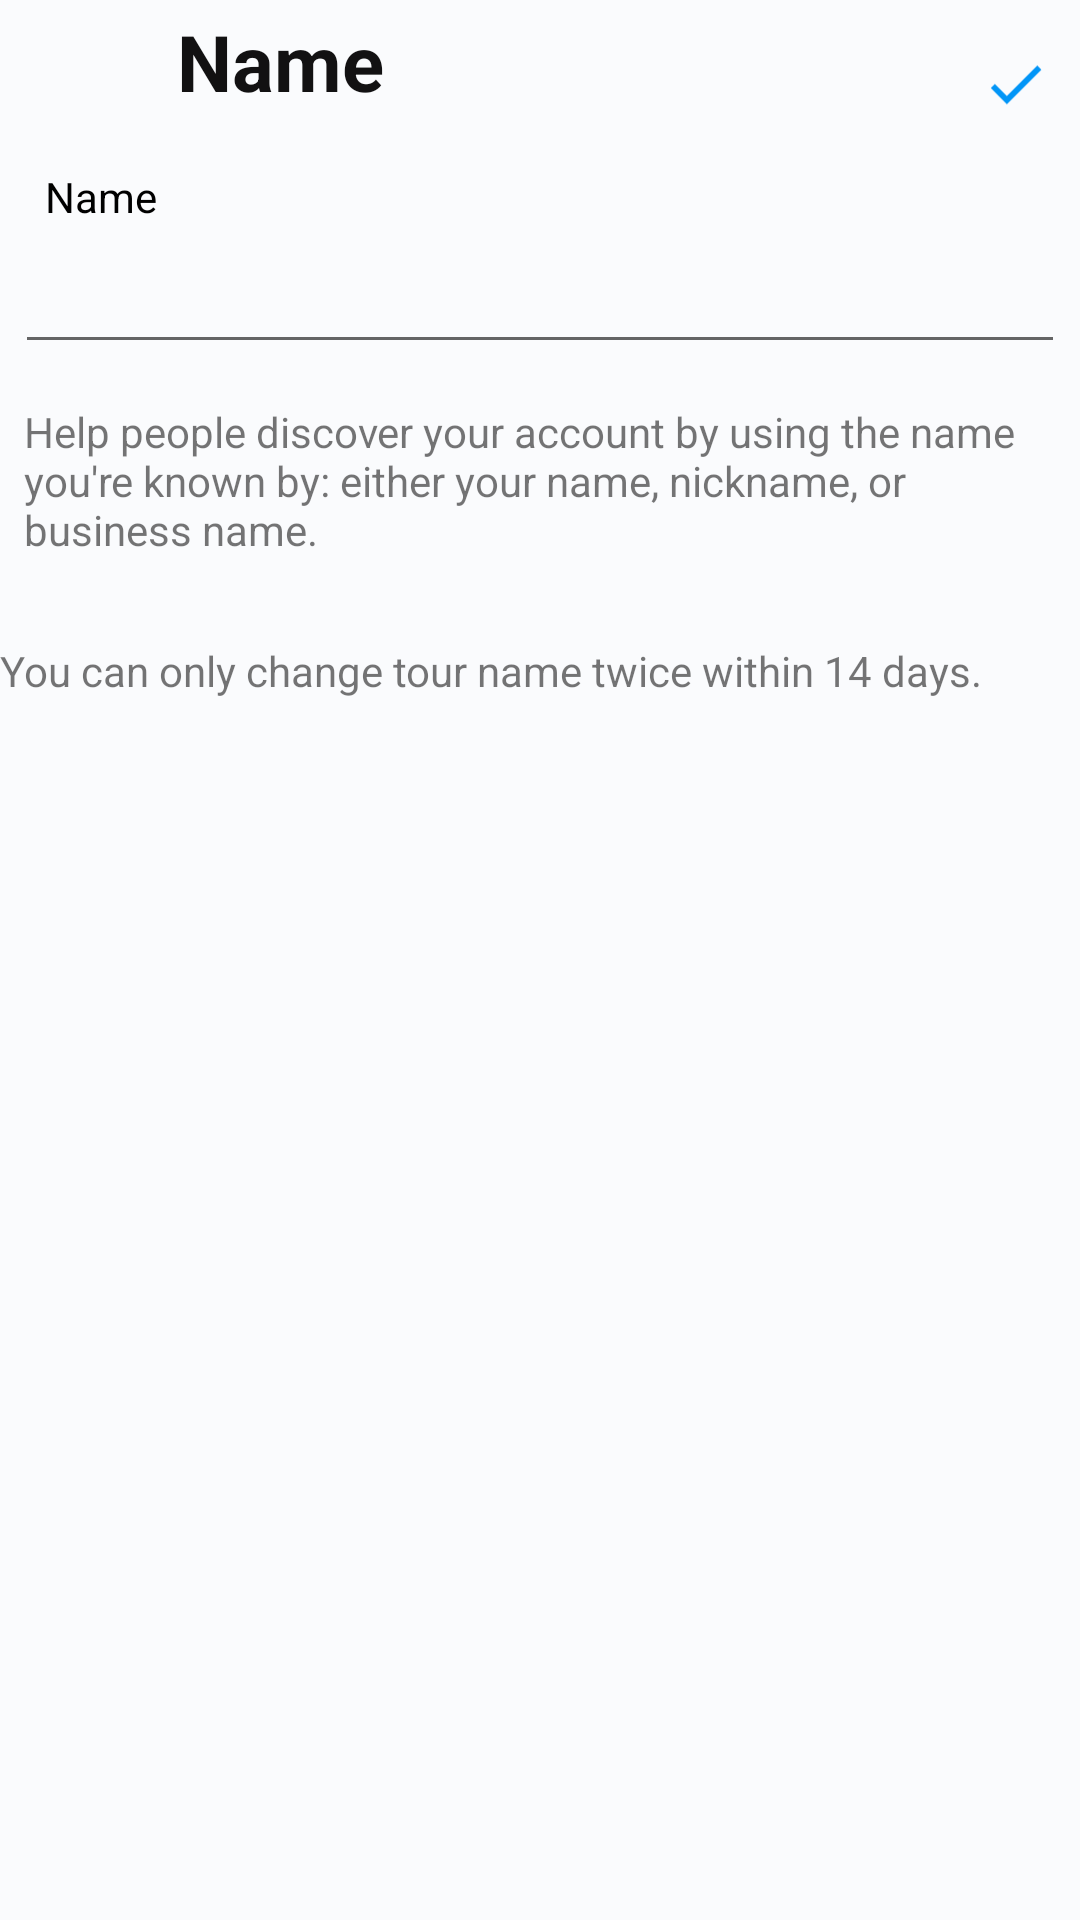

Icons on this 1080*1920 Android screen, each with the point to tap as (x,y):
check: (1016,85)
